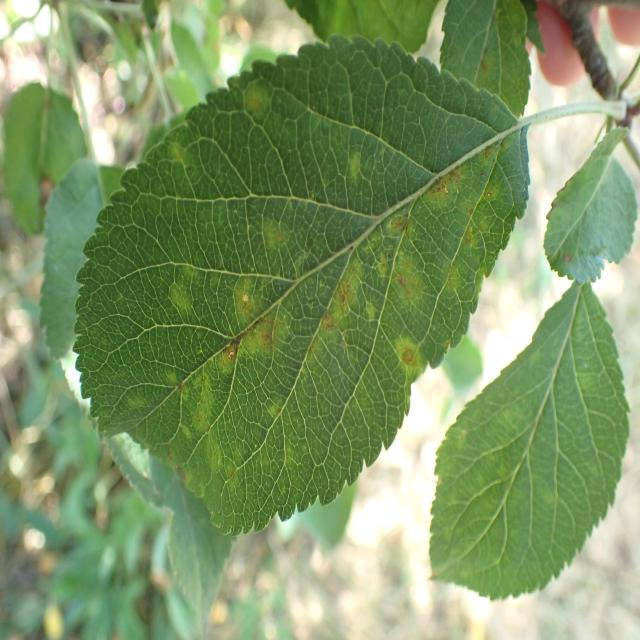scab: (117, 74, 524, 470)
